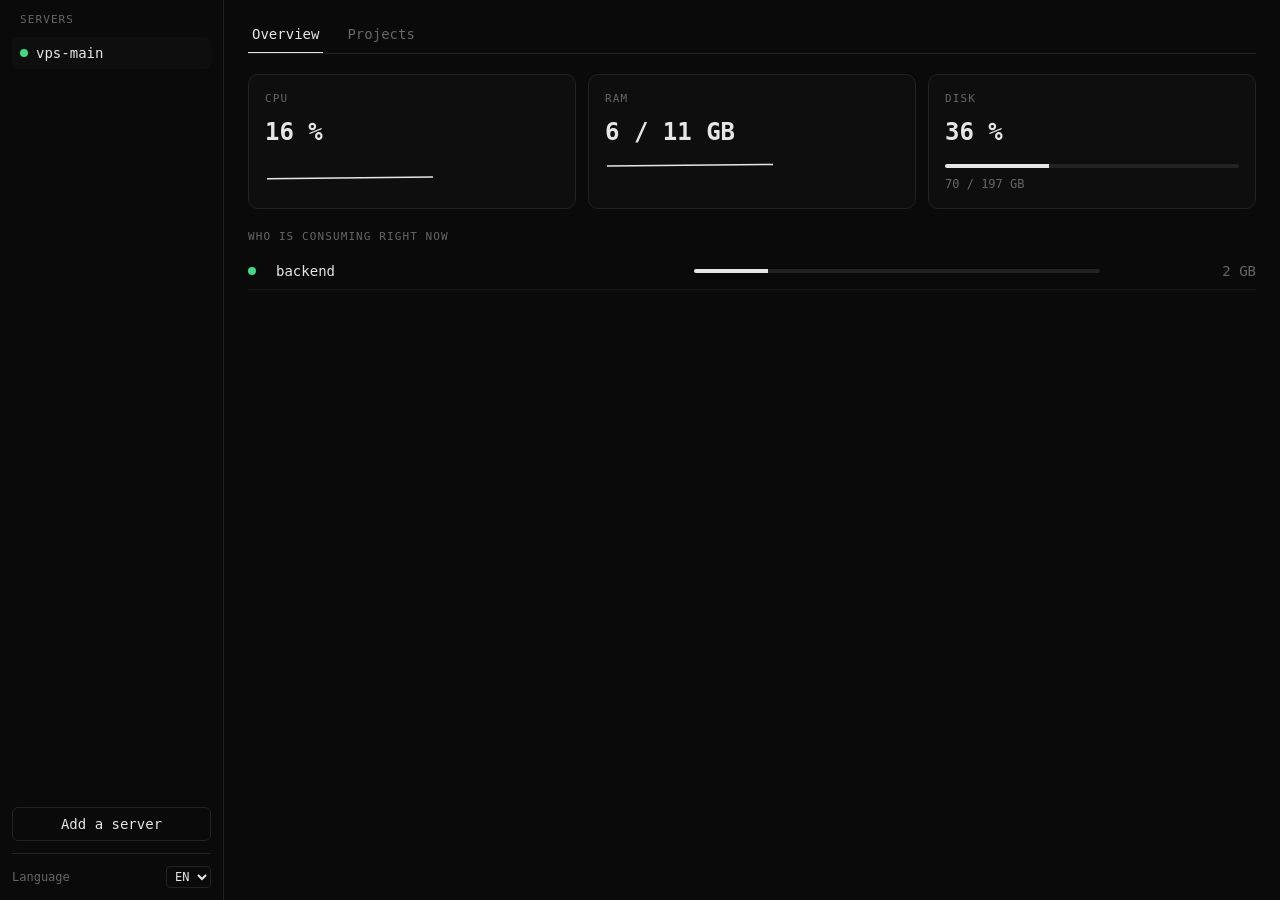
Scenario: App › opens the logs of the project from its page
Expected: the text "vps-main" is shown, [36,42,103,62]
What coordinates should you click on to do the following:
click the text "backend"
I would click on:
 (306, 271)
Its box is [276,263,335,279].
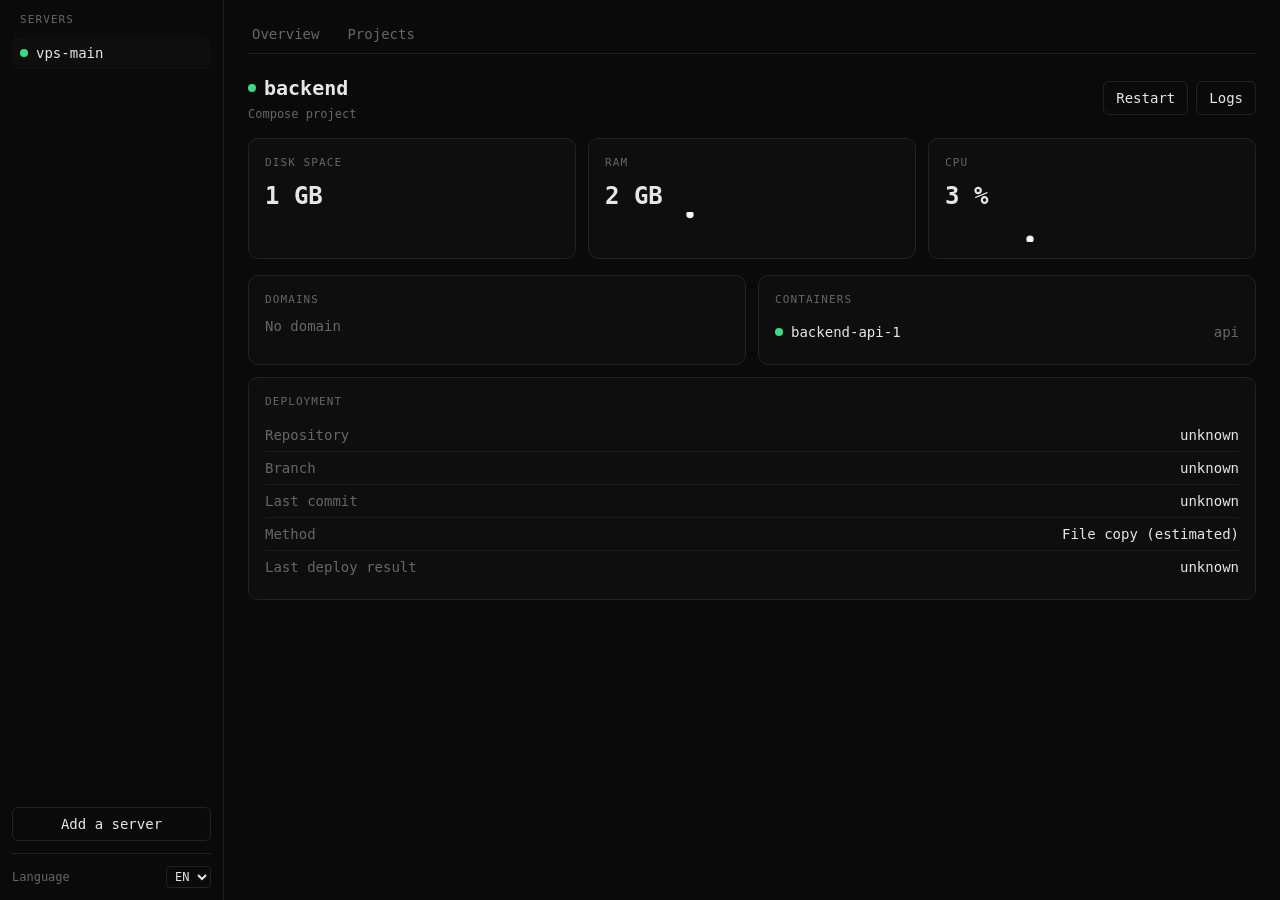
What coordinates should you click on to do the following:
click the button "Logs"
I would click on:
 (1226, 98)
Its box is [1196,81,1256,115].
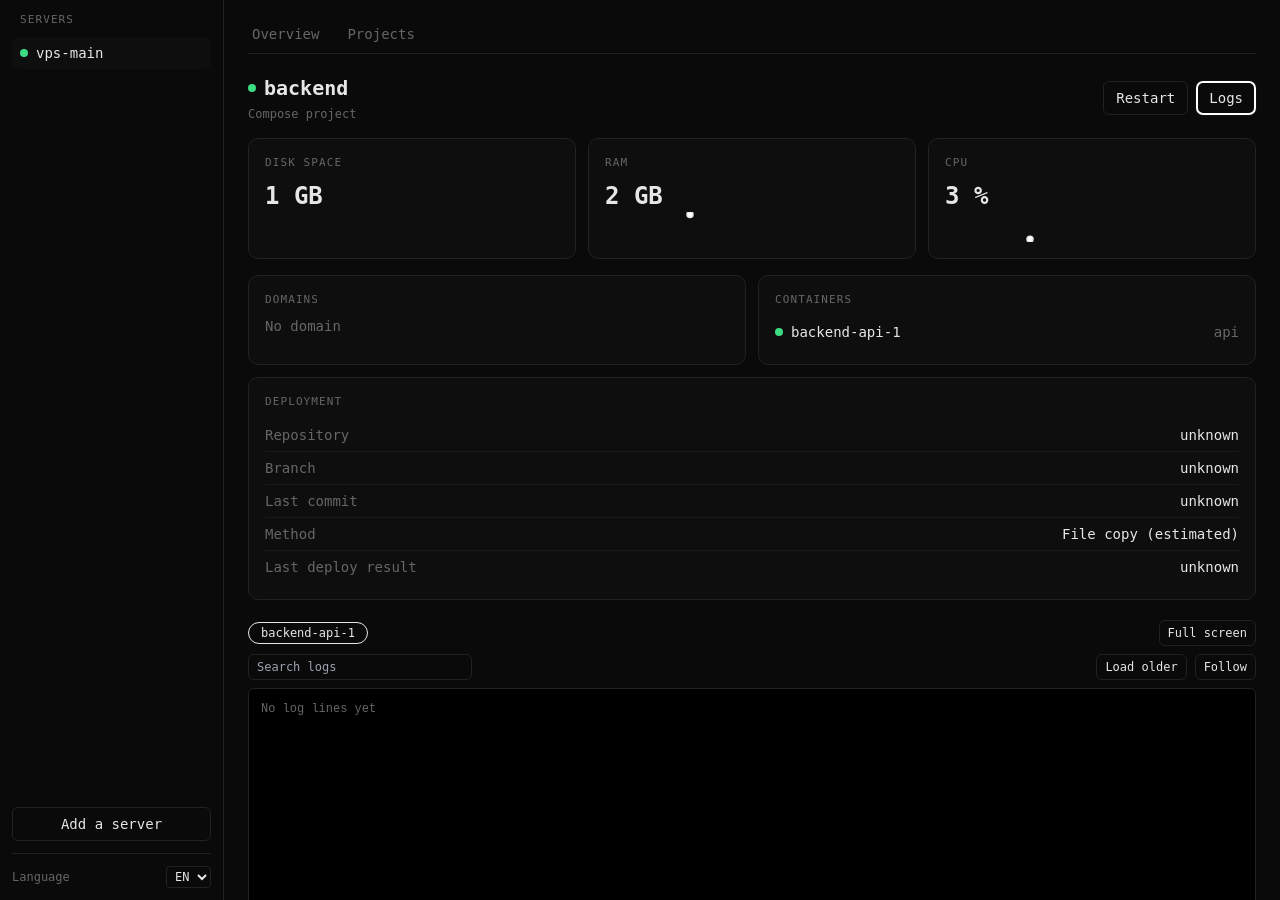
Now the tab "backend-api-1" is shown, box [248,622,368,644]
